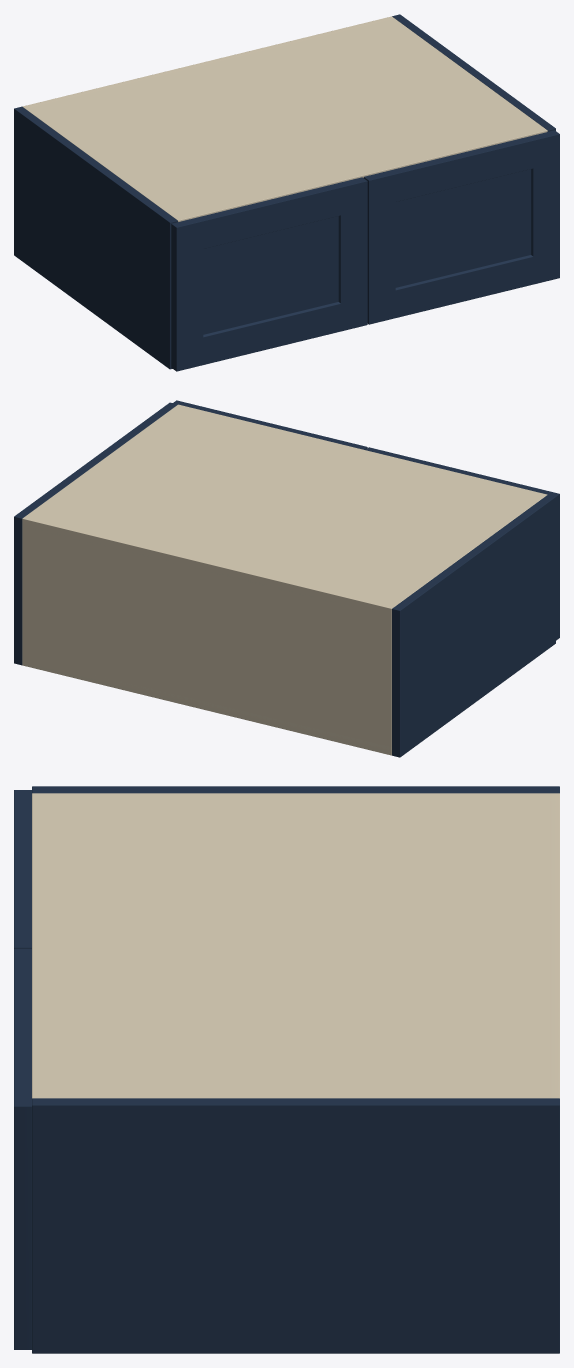
Rendered from oppein-ply-bss-w331224.glb.
3 renders of one model, top to bottom at view 1: azimuth 30°, elevation 25°; view 2: azimuth 150°, elevation 25°; view 3: azimuth 270°, elevation 25°, orthographic. The views are drawn at different scales.
Parts seen in each view (by area): view 1: Cabinet top, Door, Door.001, Cabinet side, Cabinet side.001, Cabinet back; view 2: Cabinet top, Cabinet back, Cabinet side, Cabinet side.001, Cabinet bottom, Door, Door.001; view 3: Cabinet top, Cabinet side.001, Door.001, Cabinet side, Cabinet back, Door.
Part boxes in pixels (bbox=[...]): Cabinet top: bbox=[25, 17, 547, 221]; Door: bbox=[171, 177, 367, 371]; Door.001: bbox=[363, 130, 559, 324]; Cabinet side: bbox=[14, 106, 177, 369]; Cabinet side.001: bbox=[392, 14, 555, 131]; Cabinet back: bbox=[22, 16, 394, 108]; Cabinet top: bbox=[22, 404, 547, 613]; Cabinet back: bbox=[22, 516, 394, 755]; Cabinet side: bbox=[392, 495, 555, 757]; Cabinet side.001: bbox=[14, 402, 177, 665]; Cabinet bottom: bbox=[22, 664, 391, 755]; Door: bbox=[365, 447, 559, 640]; Door.001: bbox=[173, 400, 367, 449]; Cabinet top: bbox=[32, 793, 559, 1098]; Cabinet side.001: bbox=[32, 1098, 559, 1353]; Door.001: bbox=[14, 948, 31, 1349]; Cabinet side: bbox=[32, 786, 559, 793]; Cabinet back: bbox=[549, 793, 559, 1098]; Door: bbox=[14, 790, 31, 948].
Bounding box in the file's own units: 0.8382 × 0.3048 × 0.6064.
